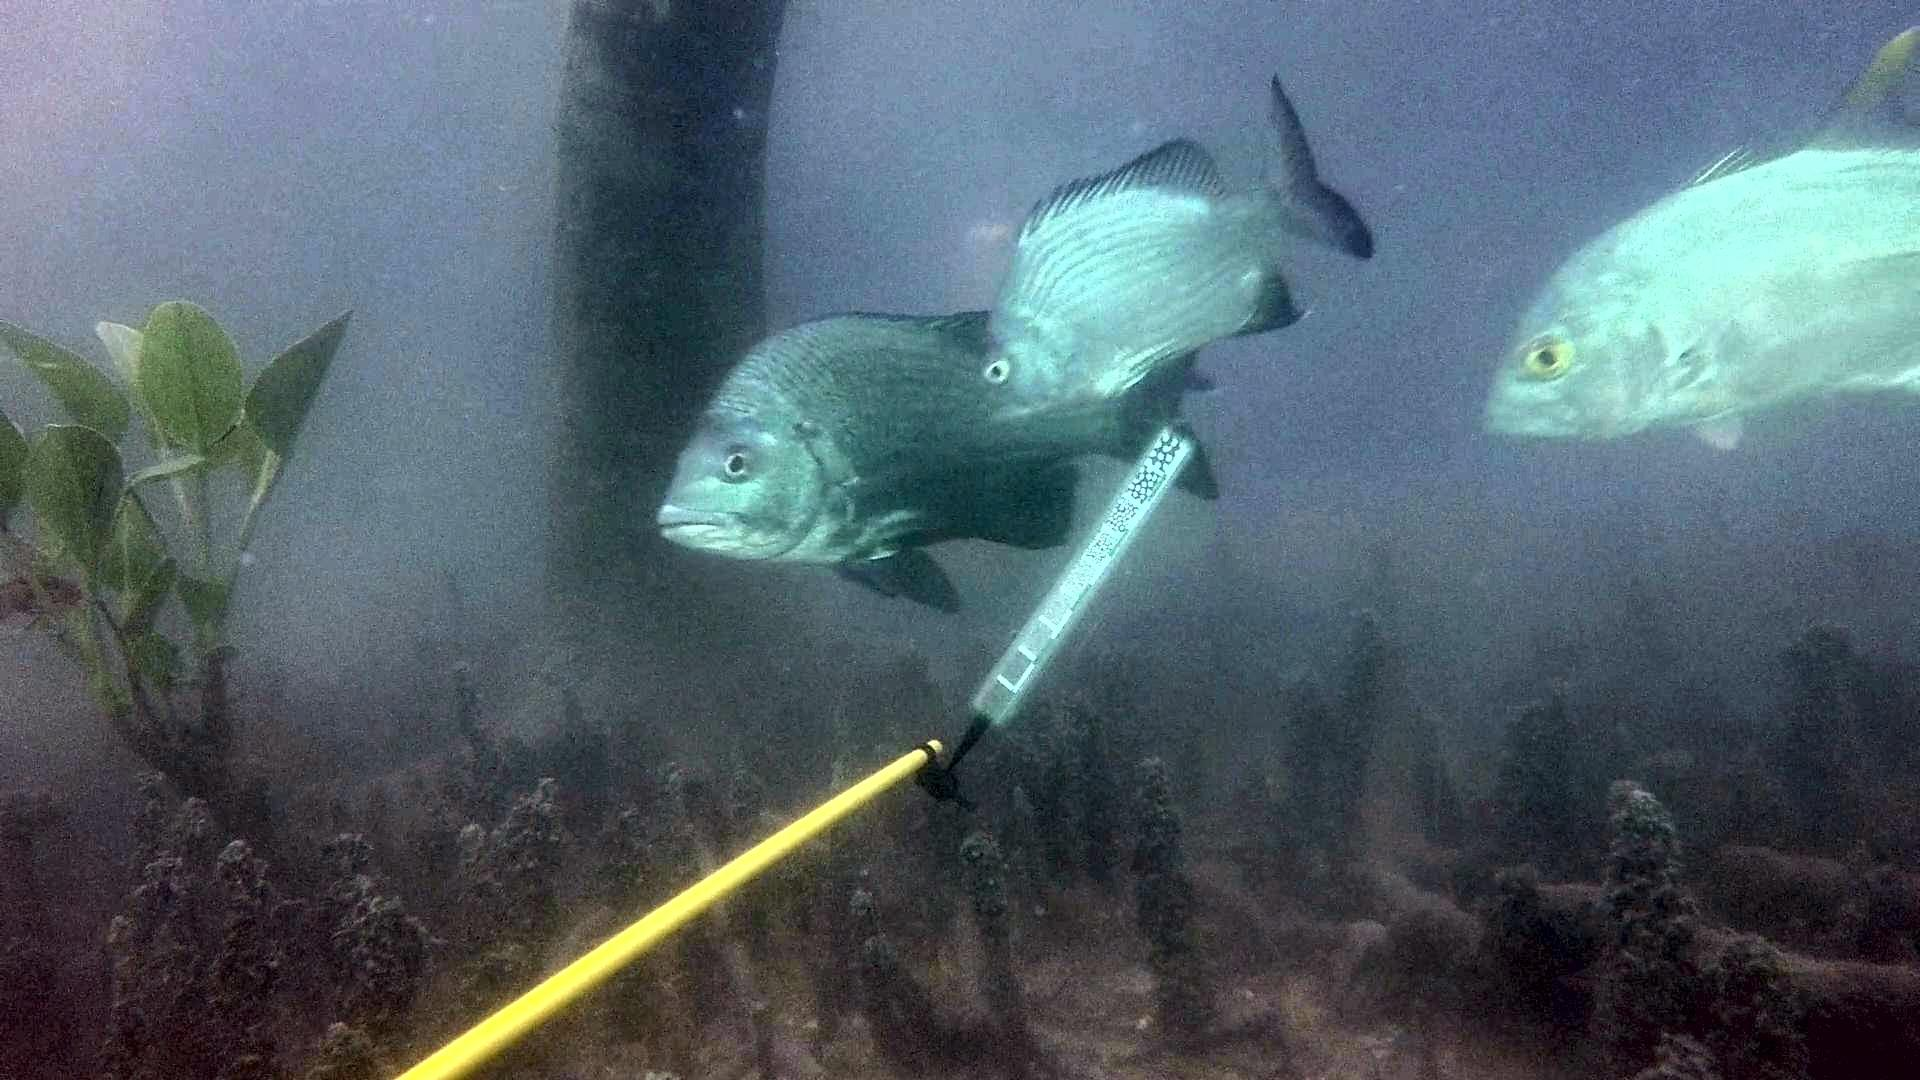acanthopagrus palmaris: (658, 306, 1226, 617), (965, 73, 1393, 421)
caranx: (1484, 20, 1920, 473)
